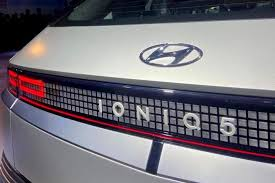Honda Ioniq: (3, 1, 274, 183)
